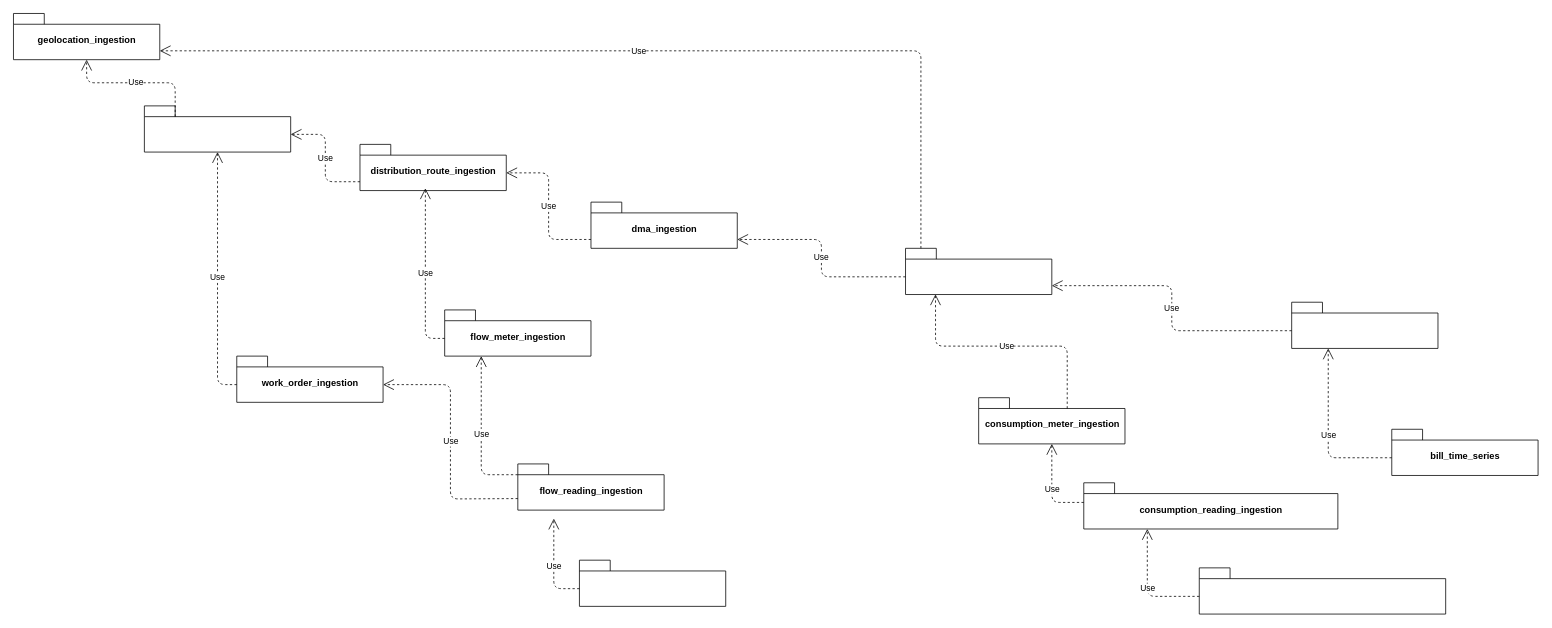
Some shapes in this 1552 by 628 pixel diagram are drawn without their labels. The shapes that lost their labels are listed below. From the top down, each one's centre as x and y in pixels, then its label:
At point (217, 128): "asset_ingestion".
At point (978, 271): "address_ingestion".
At point (1364, 324): "billing_ingestion".
At point (652, 582): "flow_reading_time_series".
At point (1322, 590): "consumption_reading_time_series".
